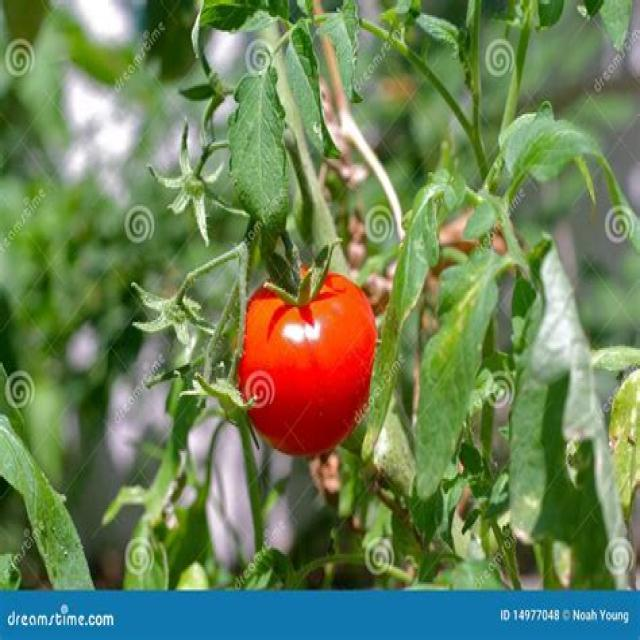Tomato: (236, 273, 379, 459)
